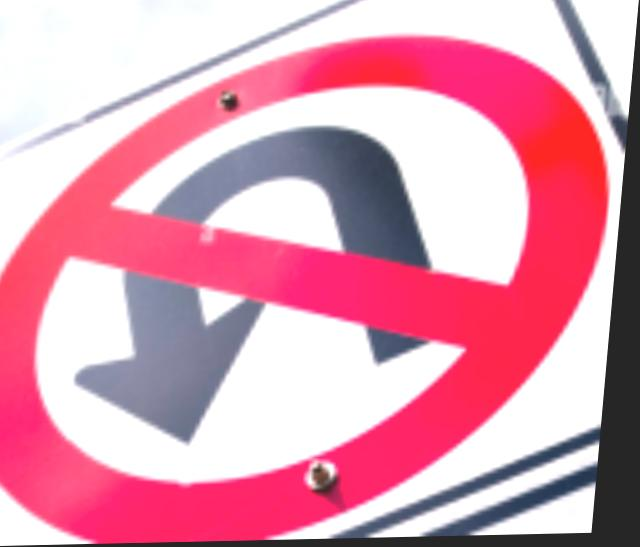not_u_turn_left: (0, 21, 636, 547)
